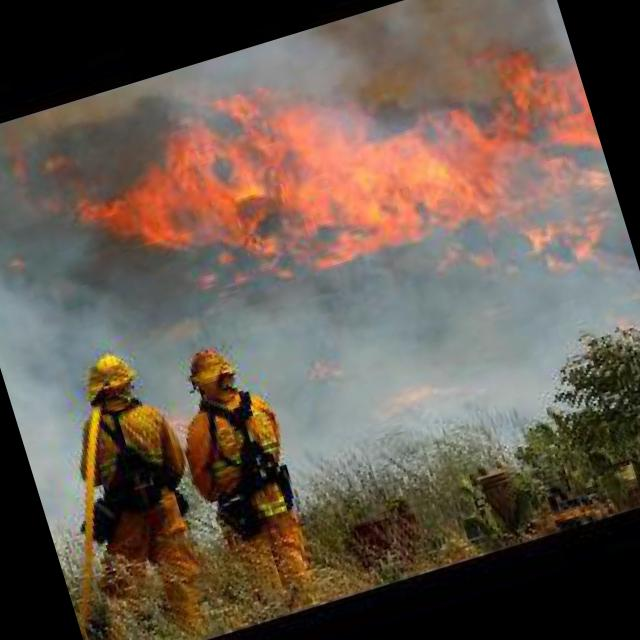fire: (36, 0, 626, 383)
smoke: (39, 190, 303, 372), (0, 79, 185, 231)
